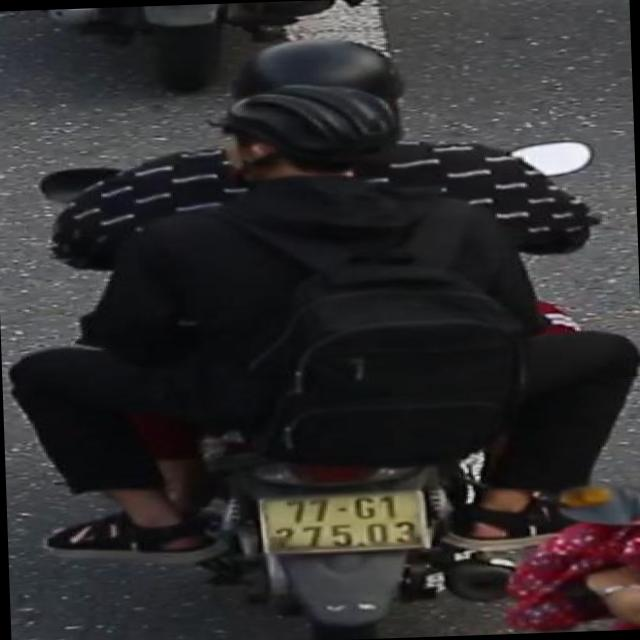LP: (253, 485, 436, 562)
helmet: (197, 82, 411, 198), (251, 33, 418, 103)
